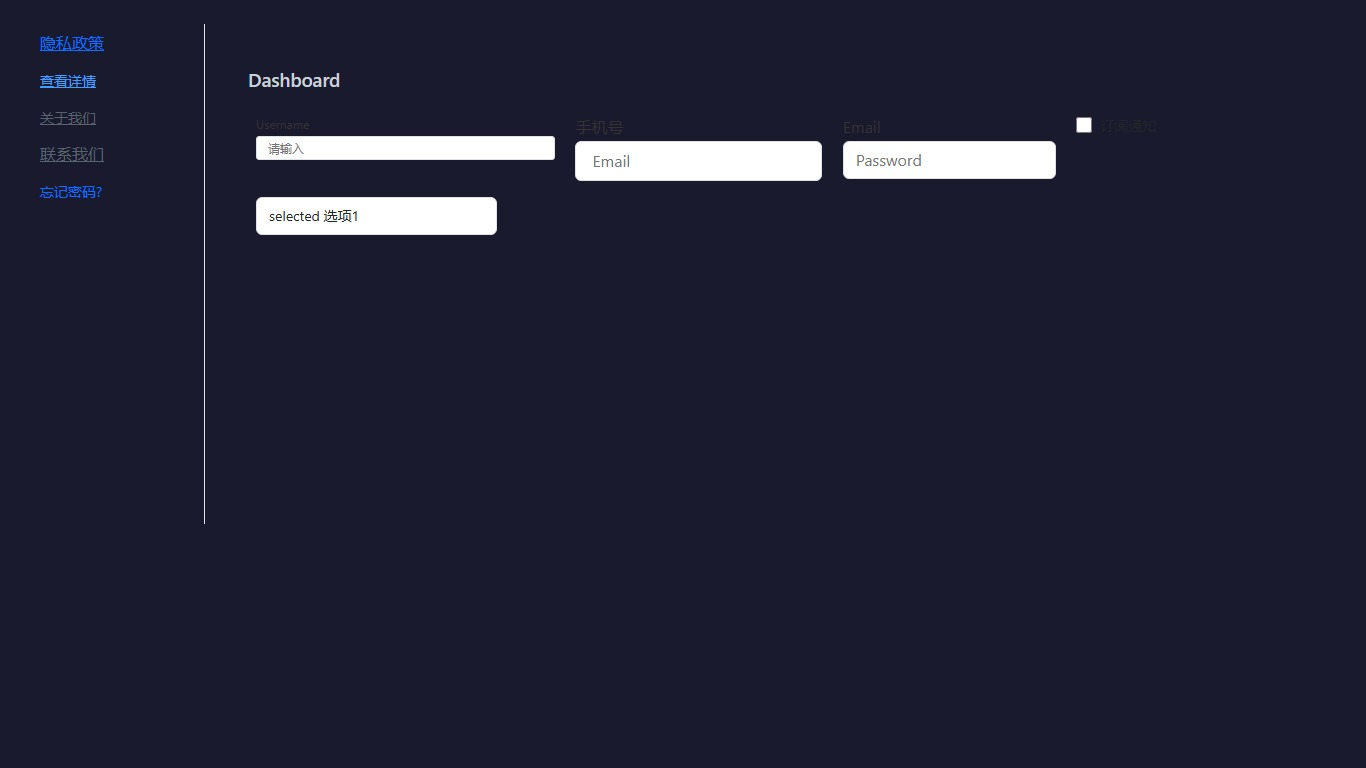checkbox: (1076, 117, 1092, 133)
icon: (1100, 116, 1156, 135)
input: (575, 141, 822, 181), (843, 141, 1056, 179), (256, 136, 555, 160)
link: (40, 32, 104, 53), (40, 143, 104, 164), (40, 182, 102, 201), (40, 71, 96, 90), (40, 108, 96, 127)
radio: (1076, 116, 1156, 135)
select: (256, 197, 497, 235)
